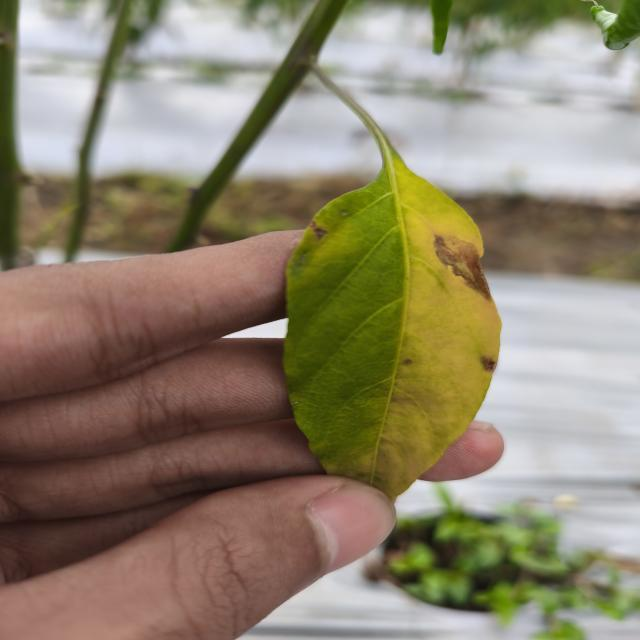Virus Kuning: (282, 153, 502, 504)
